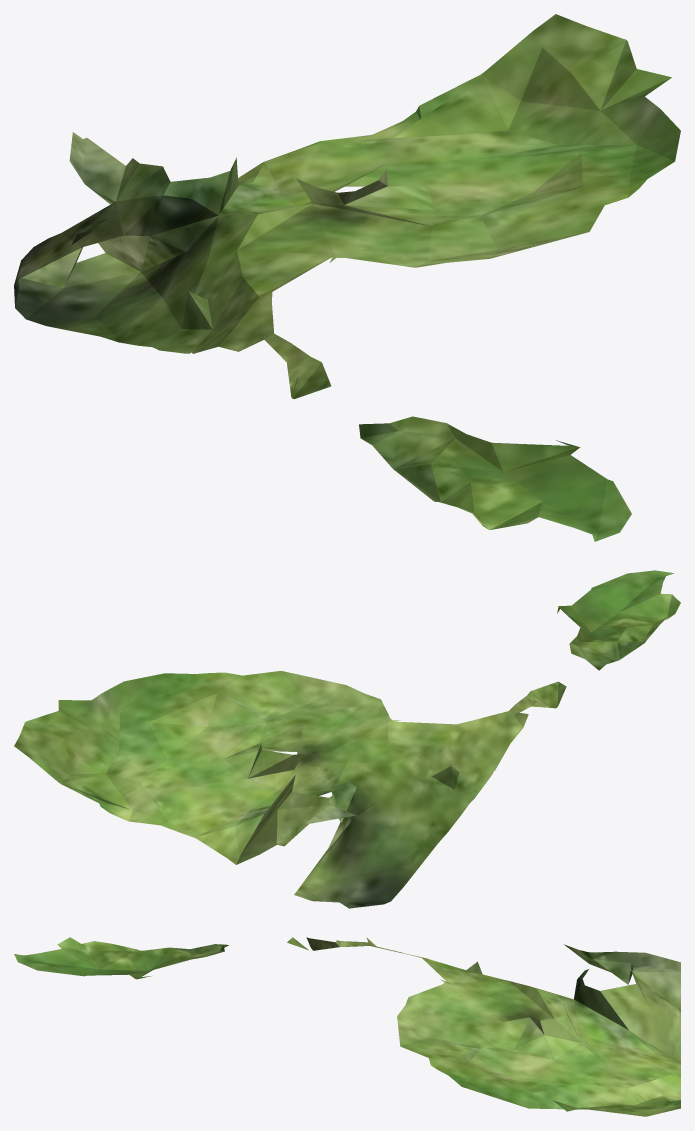
The picture shows the model from 3 angles, top to bottom: view 1: azimuth 30°, elevation 25°; view 2: azimuth 150°, elevation 25°; view 3: azimuth 270°, elevation 25°; orthographic projection. The views are drawn at different scales.
Bounding box in the file's own units: 21.38 × 4.77 × 34.3.
1 material, 1 textured.
